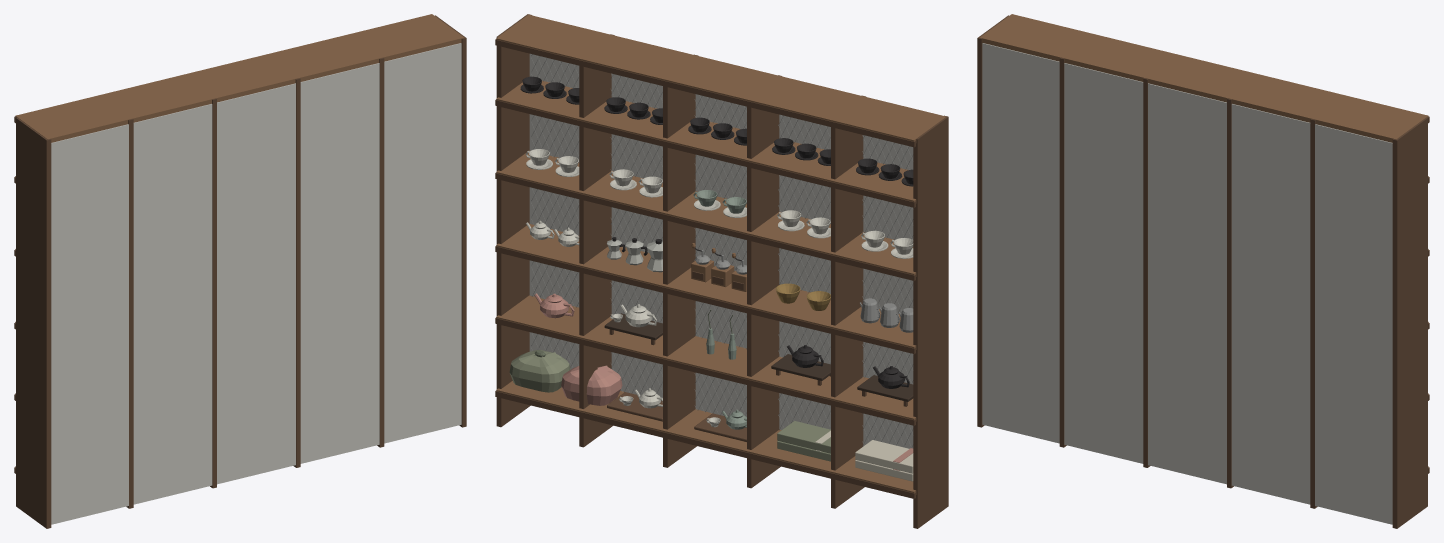
Rendered from tea-cabinet.glb.
3 renders of one model, left to right at view 1: azimuth 30°, elevation 25°; view 2: azimuth 150°, elevation 25°; view 3: azimuth 330°, elevation 25°, orthographic.
Visible parts, largest first — view 1: DamccotTeaCabinet; view 2: DamccotTeaCabinet; view 3: DamccotTeaCabinet.
Part boxes in pixels (x1,y1,x2,y2): DamccotTeaCabinet: [14, 14, 466, 528]; DamccotTeaCabinet: [495, 14, 948, 528]; DamccotTeaCabinet: [977, 14, 1429, 528].
Bounding box in the file's own units: 3.13 × 2.77 × 0.4314.
